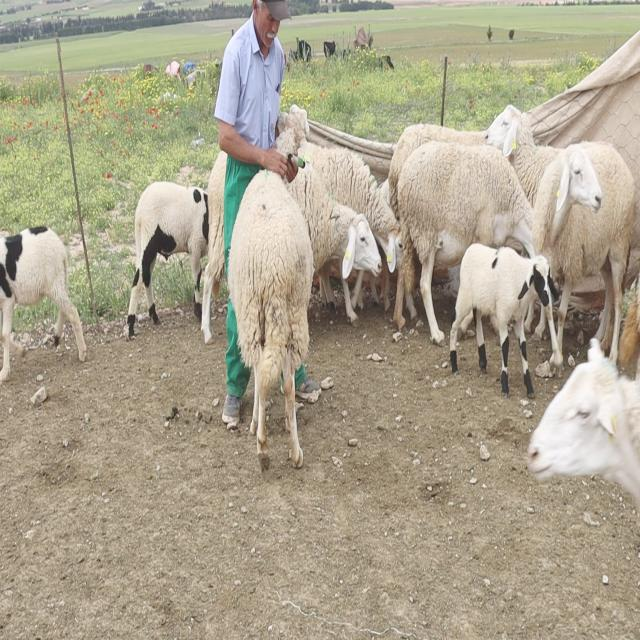Score_5: (228, 173, 314, 466)
